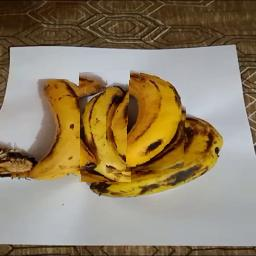Banana Semifresh: (9, 79, 99, 187), (107, 71, 189, 175), (79, 72, 131, 182)
